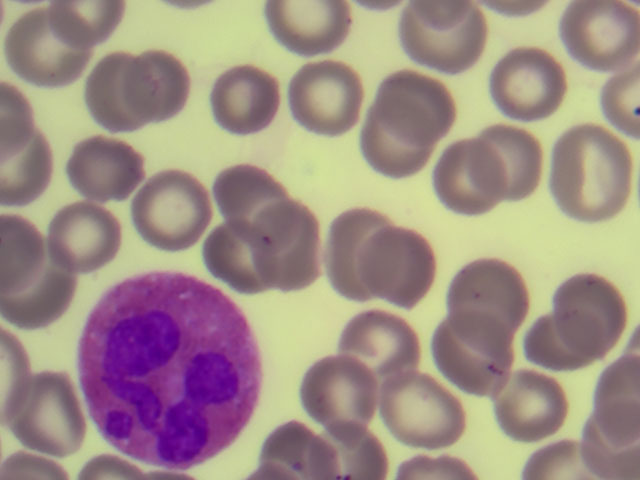RBC: (2, 3, 84, 85), (63, 46, 145, 128), (125, 46, 207, 128), (64, 123, 146, 205), (43, 200, 125, 282), (129, 166, 211, 248), (210, 149, 292, 231), (251, 204, 333, 286), (193, 216, 275, 298), (201, 63, 283, 145), (291, 50, 373, 132), (385, 52, 467, 134), (348, 105, 430, 187), (428, 137, 510, 219), (461, 117, 543, 199), (553, 135, 635, 217), (486, 43, 568, 125), (558, 262, 640, 344), (515, 315, 597, 397), (447, 254, 529, 336), (439, 316, 521, 398), (328, 303, 410, 385), (299, 353, 381, 435), (392, 368, 474, 450), (371, 223, 453, 305), (331, 205, 413, 287), (9, 369, 91, 451), (558, 398, 640, 480), (484, 368, 566, 450), (1, 259, 82, 341), (398, 1, 480, 82), (266, 1, 348, 82), (558, 1, 640, 82), (251, 424, 333, 480)
WBC: (71, 283, 253, 453)
